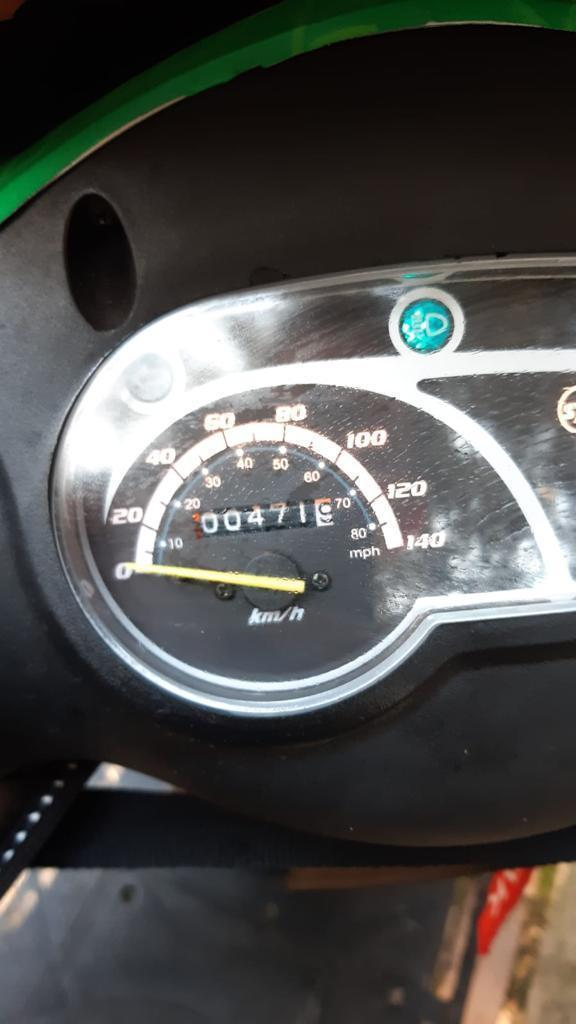0: (199, 510, 219, 534), (222, 508, 241, 532), (192, 497, 201, 509)
1: (294, 498, 309, 525)
4: (245, 503, 266, 526)
7: (269, 500, 288, 525)
9: (317, 500, 333, 525)
odometer: (189, 494, 336, 541)
